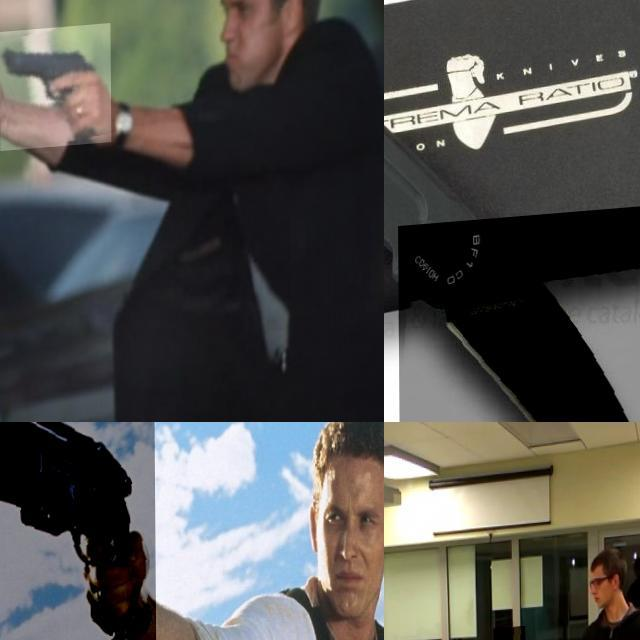-: (397, 212, 640, 422)
gun-knife-thesis - v11 Yolov5 augmented: (0, 422, 155, 640), (0, 27, 110, 153), (0, 25, 57, 140)
